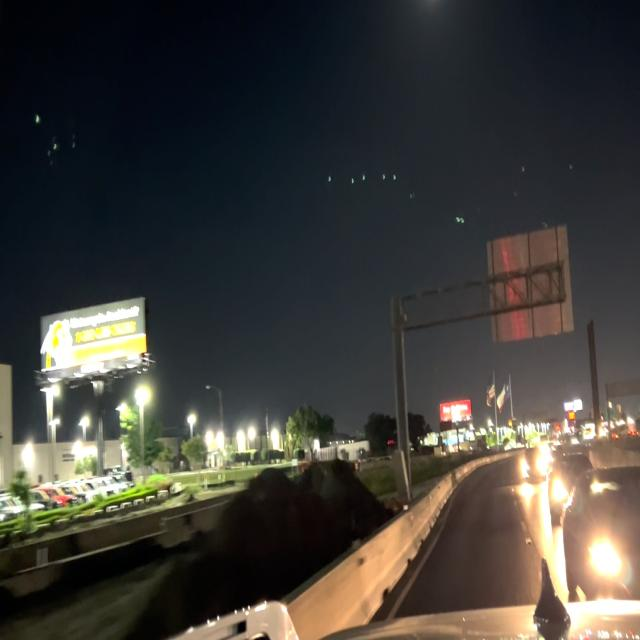back-of-sign: (484, 220, 577, 349)
